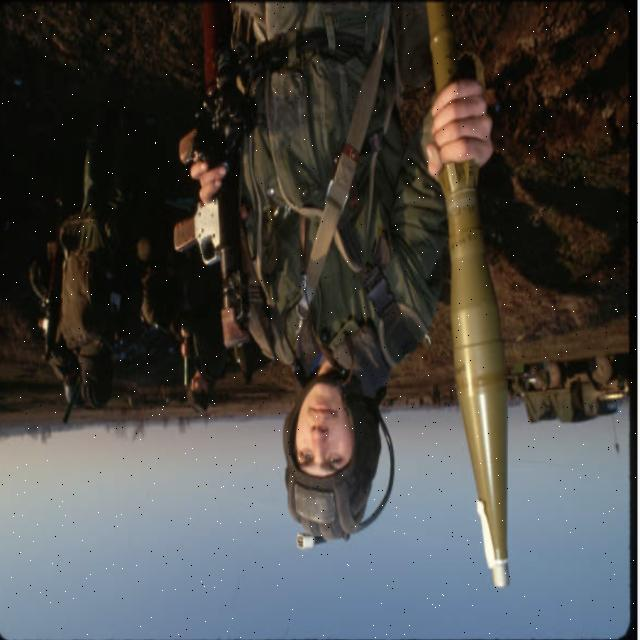bazooka: (420, 1, 521, 600)
